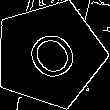O_SE: (16, 22, 83, 88)
